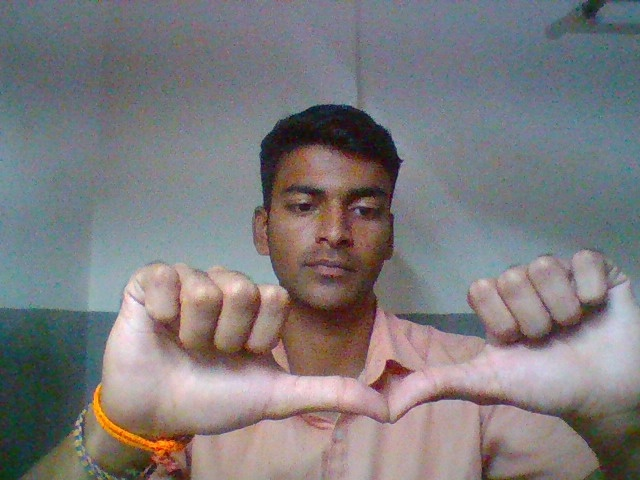A: (84, 242, 640, 437)
